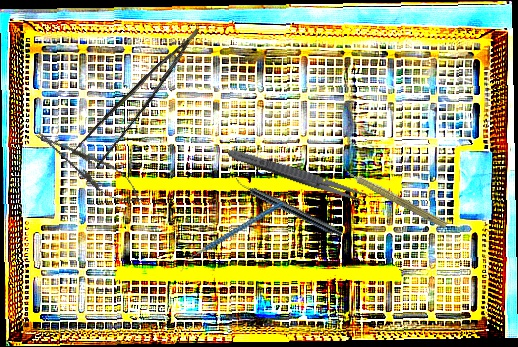Chopper: (170, 200, 293, 273)
Dressing Forceps: (226, 145, 371, 206)
Handpiece: (335, 161, 451, 231), (232, 176, 345, 239)
Needle Holder: (27, 120, 151, 214)
Tissue Forceps: (66, 27, 220, 175)
